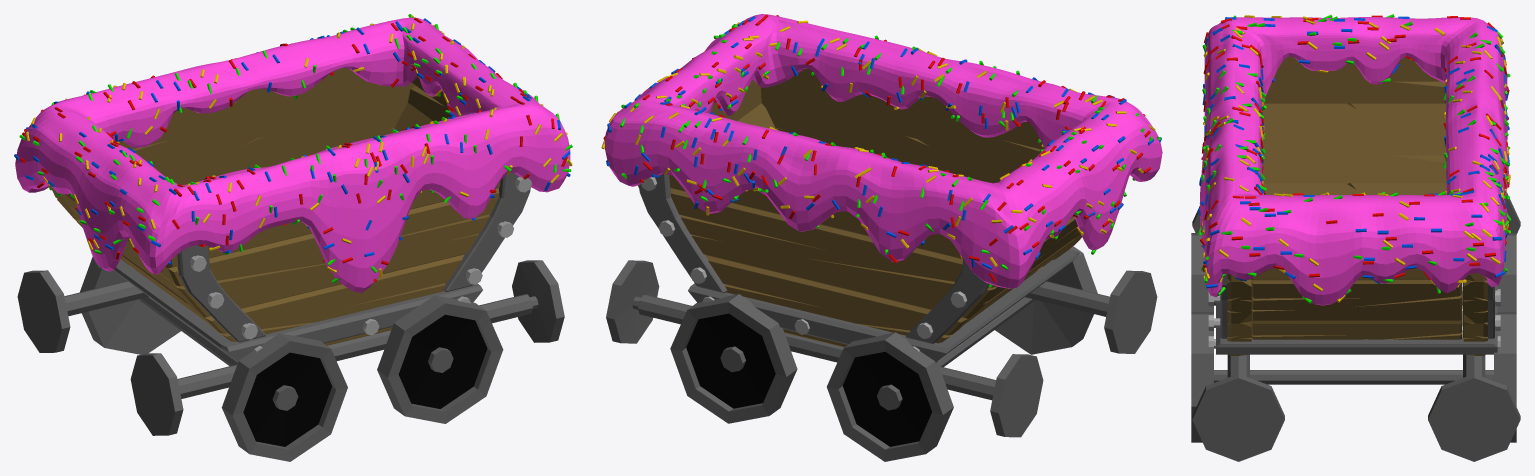
File: vagon_tahta_candy_revize.fbx
3 views of the same model, side by side, from view 1: azimuth 30°, elevation 25°; view 2: azimuth 150°, elevation 25°; view 3: azimuth 270°, elevation 25° (orthographic). The views are drawn at different scales.
Visible parts, largest first — view 1: Cube.001, Cylinder.002, Cylinder.004, Cylinder.003, Cube.002, Cylinder.015, Cylinder.001; view 2: Cube.001, Cylinder.002, Cylinder.004, Cylinder.003, Cylinder.015, Cube.002, Cylinder.001; view 3: Cube.001, Cylinder.002, Cylinder.003, Cylinder.015, Cylinder.004, Cube.002, Cylinder.001.
Boxes of the visible parts, x1,y1,x2,y2 form: Cube.001: [15, 17, 570, 292]; Cylinder.002: [50, 67, 531, 345]; Cylinder.004: [80, 256, 503, 461]; Cylinder.003: [17, 260, 564, 435]; Cube.002: [113, 173, 530, 361]; Cylinder.015: [14, 14, 572, 282]; Cylinder.001: [190, 177, 531, 352]; Cube.001: [604, 14, 1162, 288]; Cylinder.002: [638, 68, 1081, 347]; Cylinder.004: [670, 246, 1097, 461]; Cylinder.003: [606, 260, 1157, 437]; Cylinder.015: [601, 14, 1161, 351]; Cube.002: [639, 174, 1079, 362]; Cylinder.001: [641, 177, 967, 338]; Cube.001: [1200, 17, 1508, 305]; Cylinder.002: [1227, 56, 1487, 355]; Cylinder.003: [1192, 192, 1520, 461]; Cylinder.015: [1198, 14, 1511, 303]; Cylinder.004: [1191, 233, 1516, 442]; Cube.002: [1216, 275, 1497, 354]; Cylinder.001: [1208, 289, 1500, 348].
Bounding box in the file's own units: 872 × 557 × 558.
